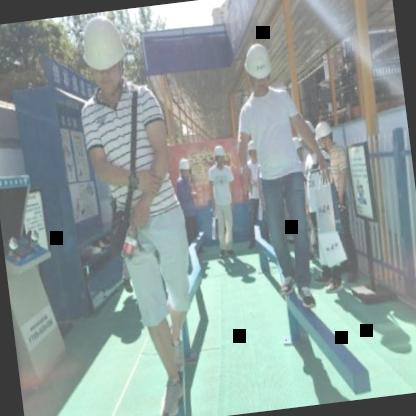helmet: (77, 10, 134, 99), (240, 38, 275, 95), (312, 120, 336, 152), (211, 140, 230, 168), (175, 154, 193, 180), (244, 135, 260, 164)
